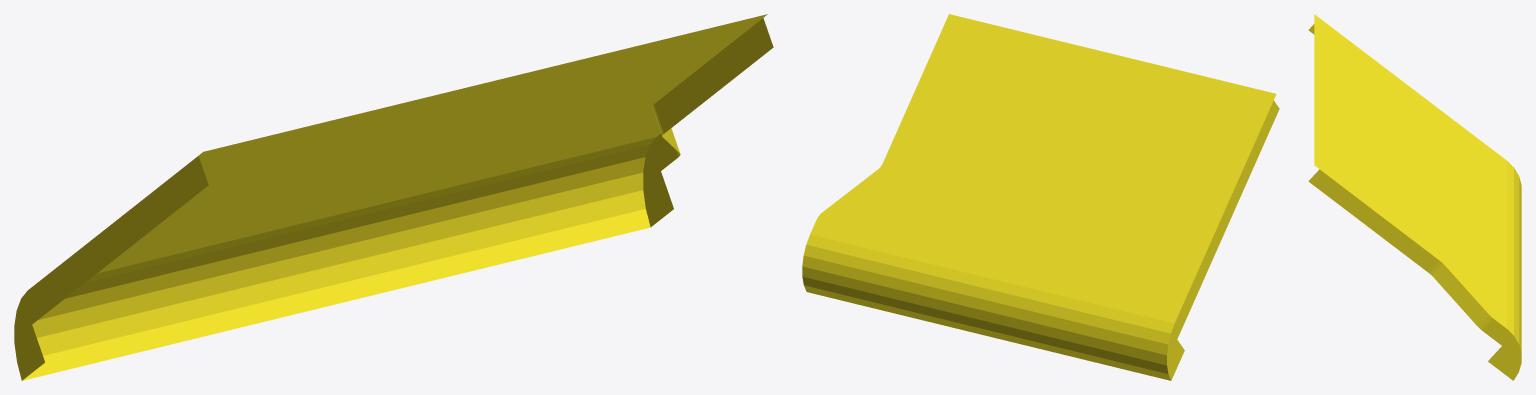
File: zatana_terra_base_vis_106.dae
3 renders of one model, left to right at view 1: azimuth 30°, elevation 25°; view 2: azimuth 150°, elevation 25°; view 3: azimuth 270°, elevation 25°, orthographic. The views are drawn at different scales.
Visible parts, largest first — view 1: Node_000002318374BEC0; view 2: Node_000002318374BEC0; view 3: Node_000002318374BEC0.
Boxes of the visible parts, x1=… form: Node_000002318374BEC0: x1=14, y1=14, x2=773, y2=380; Node_000002318374BEC0: x1=802, y1=14, x2=1279, y2=380; Node_000002318374BEC0: x1=1308, y1=14, x2=1521, y2=380.
Bounding box in the file's own units: 0.0285 × 0.0157 × 0.0153.
